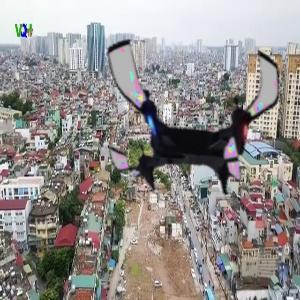drone: (100, 18, 293, 211)
